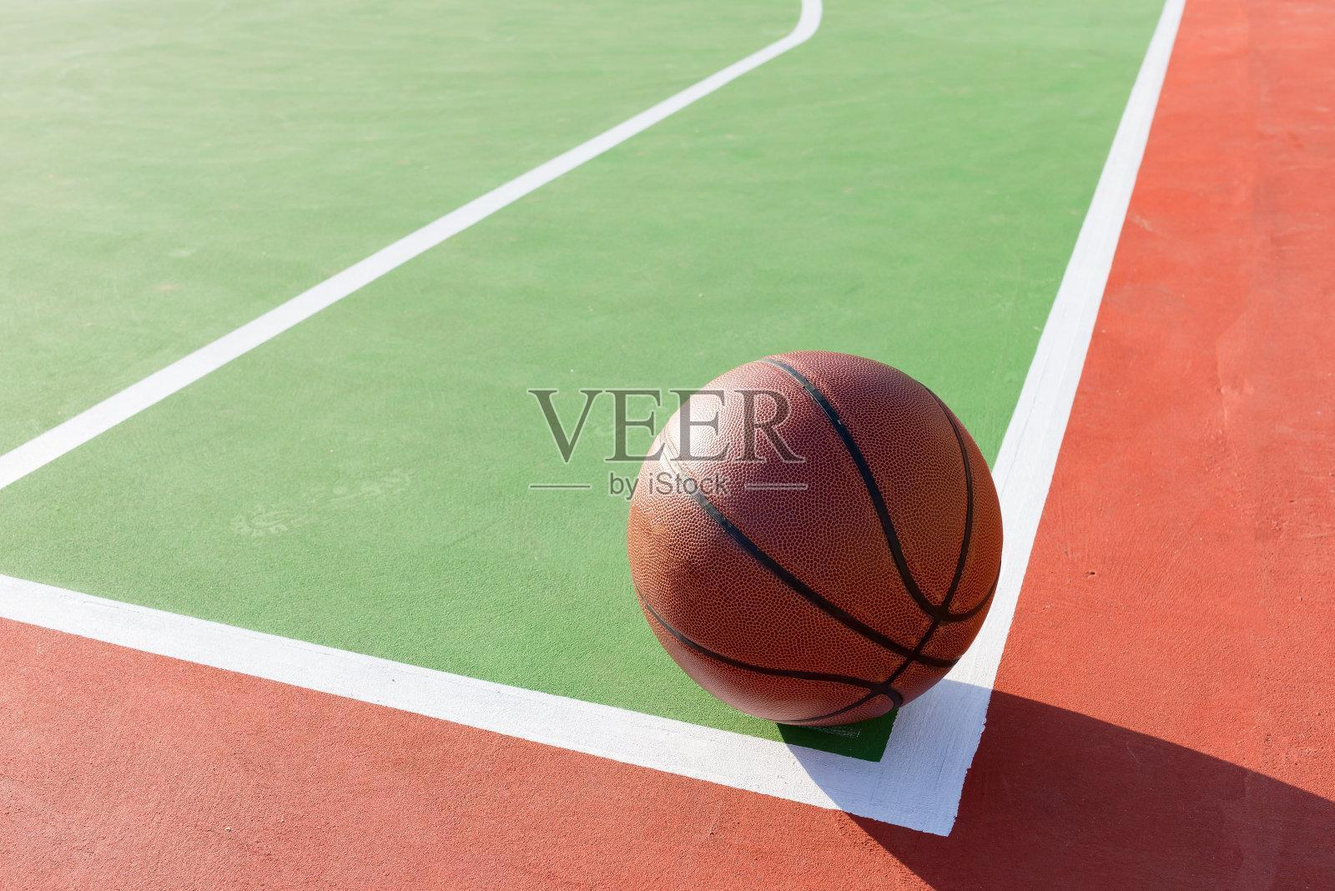ball: (631, 353, 1005, 724)
